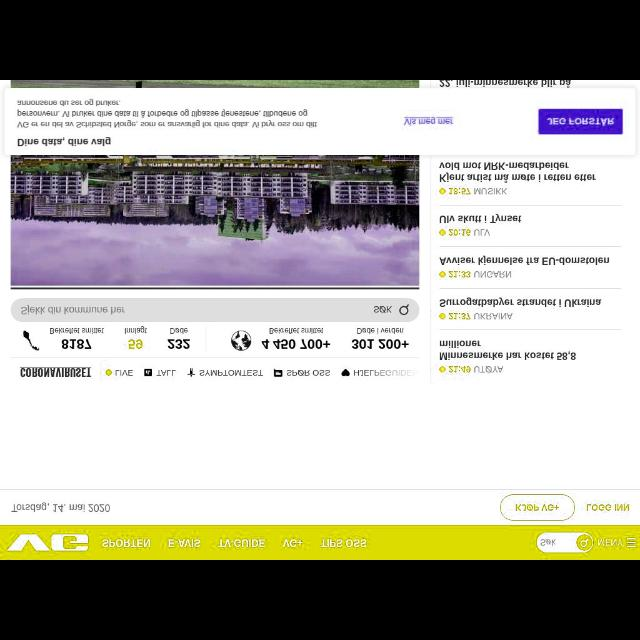button: (576, 534, 594, 550)
icon: (232, 331, 250, 351), (23, 331, 39, 351), (626, 536, 636, 548), (399, 304, 409, 316), (342, 368, 351, 377), (580, 538, 590, 546), (187, 367, 195, 377), (274, 368, 282, 377), (144, 368, 152, 377), (438, 312, 446, 320), (438, 229, 446, 237), (439, 365, 446, 373), (439, 270, 446, 278), (106, 368, 112, 376), (440, 188, 446, 195)
image: (11, 154, 420, 286), (6, 532, 90, 552)
input: (11, 297, 419, 321), (537, 532, 593, 552)
link: (404, 116, 454, 126)
text: (17, 98, 317, 128), (439, 162, 597, 182), (439, 340, 577, 360), (438, 255, 610, 265), (439, 297, 601, 307), (262, 327, 331, 349), (50, 326, 106, 350), (352, 326, 408, 349), (438, 80, 572, 88), (20, 305, 126, 315), (11, 502, 110, 512), (18, 137, 112, 147), (21, 366, 93, 378), (440, 214, 522, 224), (547, 117, 615, 127), (124, 326, 148, 350), (198, 368, 264, 376), (448, 312, 514, 320), (353, 368, 417, 376), (448, 270, 512, 278), (102, 537, 152, 547), (404, 116, 454, 126), (168, 327, 190, 349), (218, 537, 266, 547), (448, 187, 508, 195), (321, 538, 367, 548), (448, 365, 504, 373), (515, 502, 559, 512), (586, 503, 630, 511), (287, 368, 331, 376), (168, 538, 202, 548), (448, 228, 490, 236), (282, 538, 304, 548), (597, 538, 623, 546), (156, 368, 176, 376), (372, 305, 392, 313), (115, 368, 134, 376), (540, 538, 556, 546)
textbutton: (539, 108, 623, 134), (500, 494, 576, 520)
toolbar: (1, 526, 640, 560)
